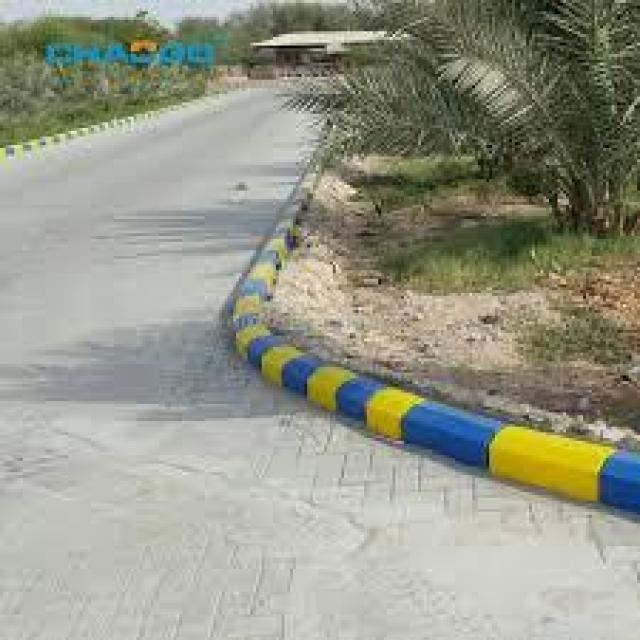bump: (432, 390, 640, 533), (238, 319, 434, 451), (229, 104, 309, 338)
